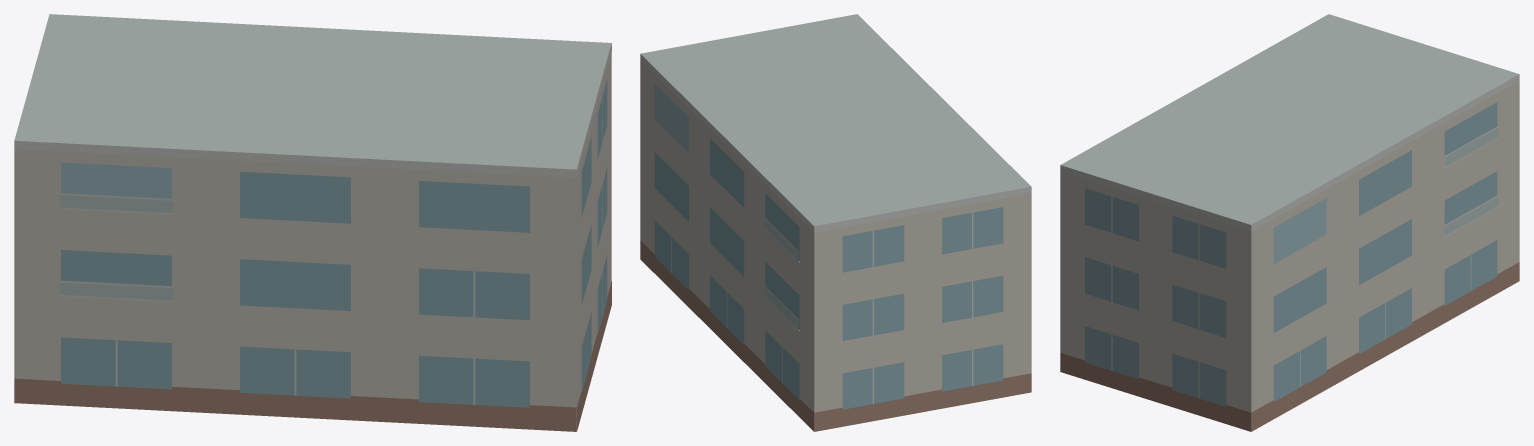
File: survey-upis-32810836.glb
3 renders of one model, left to right at view 1: azimuth 30°, elevation 25°; view 2: azimuth 150°, elevation 25°; view 3: azimuth 270°, elevation 25°, orthographic. The views are drawn at different scales.
Parts seen in each view (by area): view 1: survey-upis-32810836.tmp; view 2: survey-upis-32810836.tmp; view 3: survey-upis-32810836.tmp.
Part boxes in pixels (x1,y1,x2,y2): survey-upis-32810836.tmp: [14, 14, 611, 431]; survey-upis-32810836.tmp: [640, 14, 1031, 431]; survey-upis-32810836.tmp: [1060, 14, 1519, 431].
Size of the model in its own units: 17.07 by 7.8 by 15.7.
